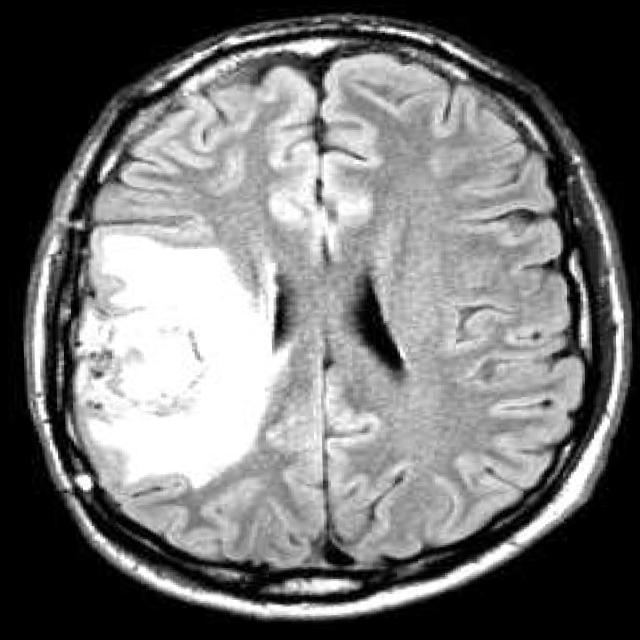Tumor: (68, 234, 273, 488)
